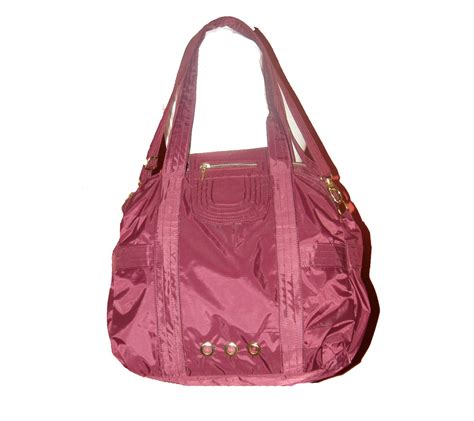nylon: (105, 154, 381, 384)
